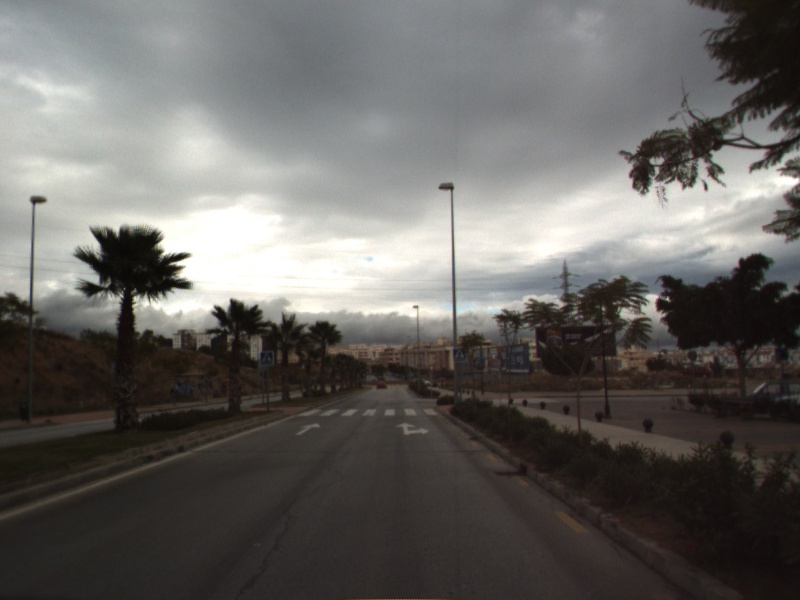STRAIGHT: (294, 421, 323, 437)
STRAIGHT_RIGHT: (393, 420, 430, 437)
